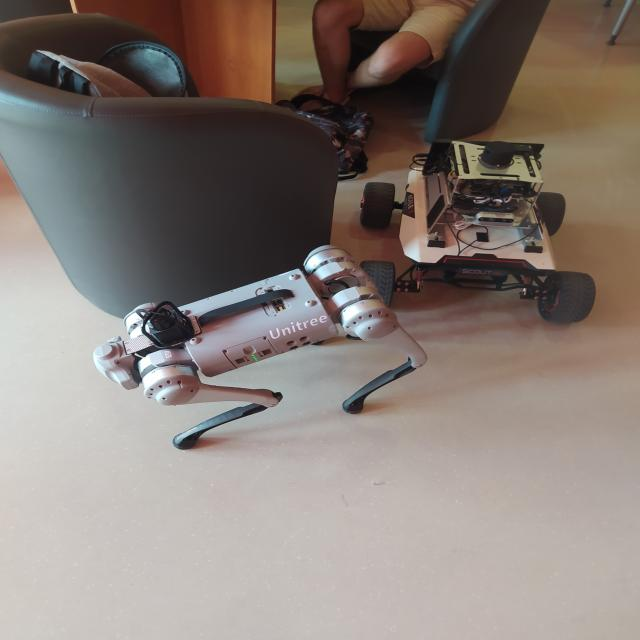unitree-go1-robot: (80, 234, 441, 460)
